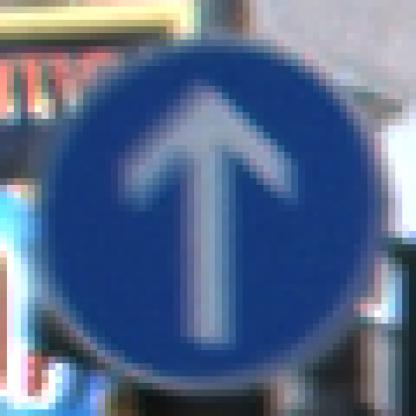AheadOnly: (36, 34, 382, 384)
